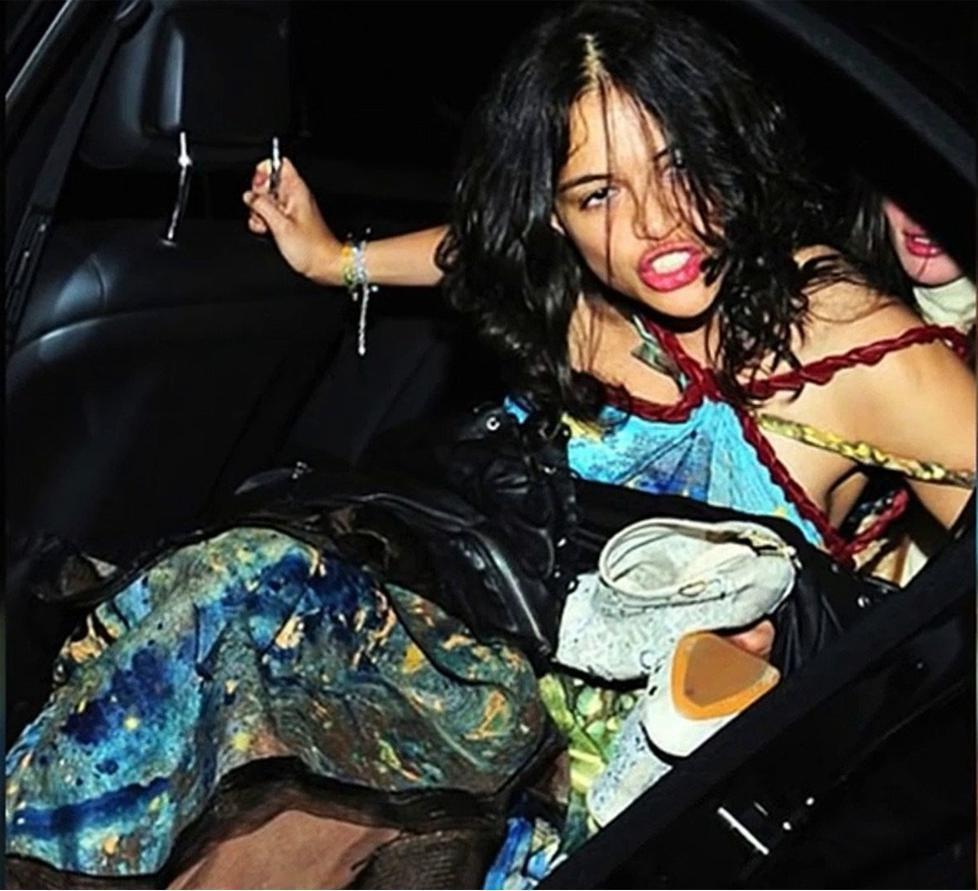Drunk: (555, 98, 719, 316)
